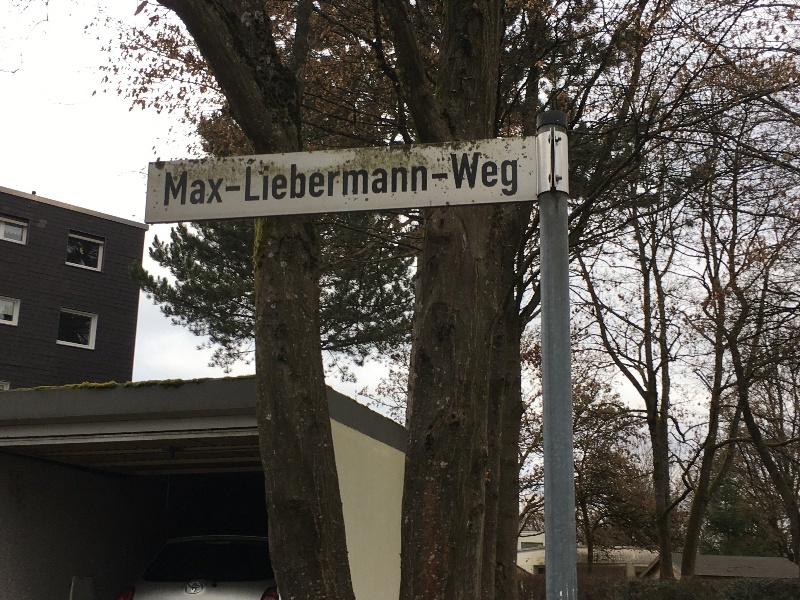text: (465, 151, 480, 201), (481, 151, 496, 201), (497, 151, 512, 201), (450, 151, 464, 201), (257, 162, 272, 203), (273, 162, 288, 203), (289, 162, 304, 203), (305, 162, 320, 203), (321, 162, 336, 203), (337, 162, 352, 203), (353, 162, 368, 203), (369, 162, 384, 203), (385, 162, 400, 203), (401, 162, 416, 203), (209, 170, 225, 207), (177, 170, 192, 207), (193, 170, 208, 207), (417, 162, 428, 203), (164, 170, 176, 207), (246, 162, 256, 203), (513, 151, 519, 201), (226, 185, 240, 193), (433, 173, 449, 179)
